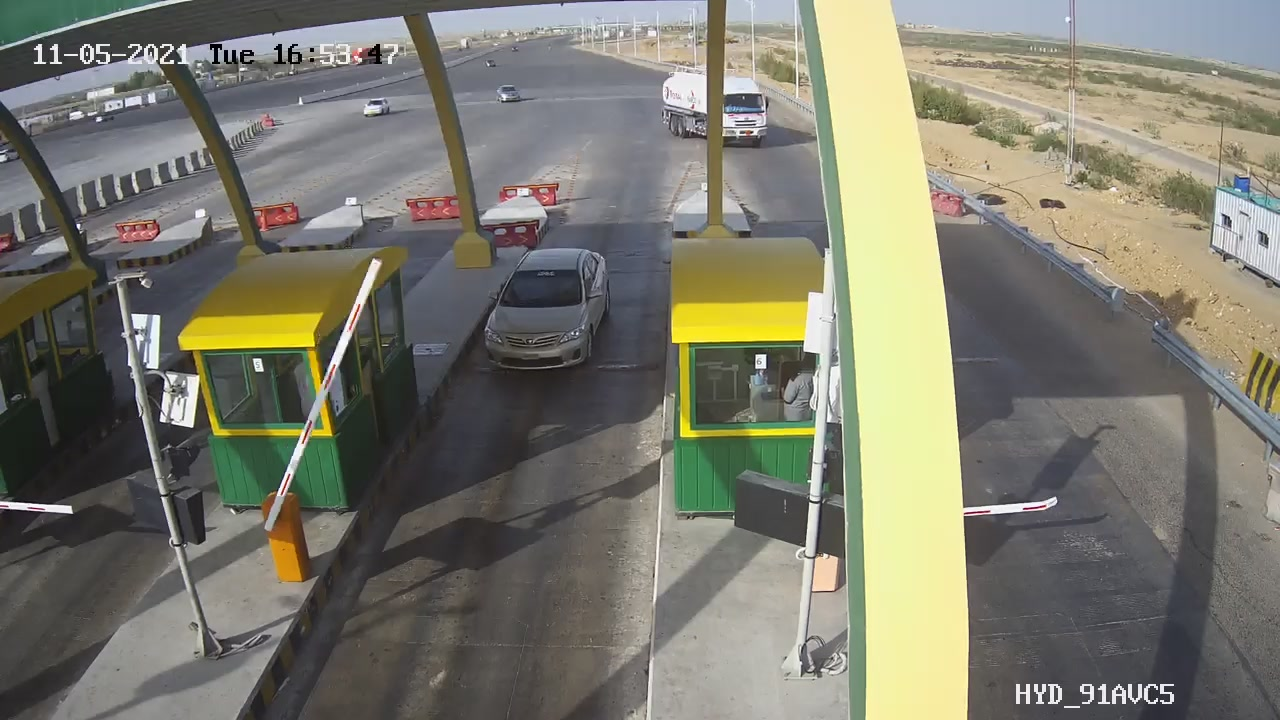F1: (465, 234, 626, 385)
